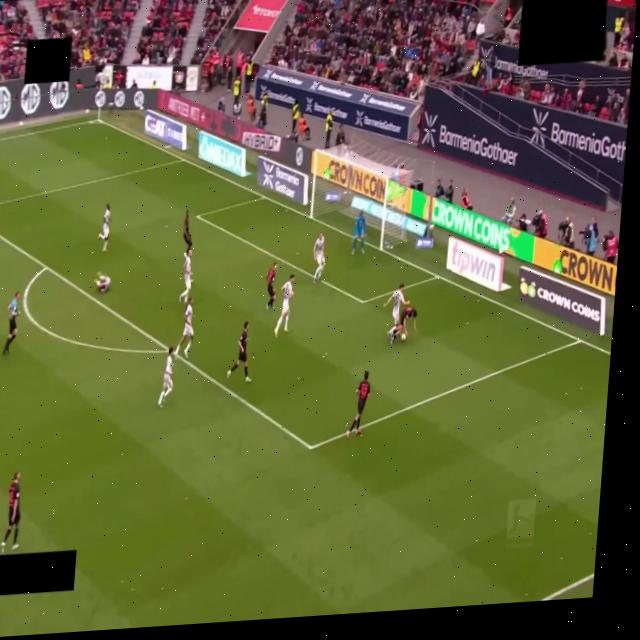ball: (401, 333, 406, 340)
player: (1, 471, 20, 552), (347, 372, 370, 438), (227, 321, 250, 382), (275, 275, 294, 336), (384, 284, 409, 329), (175, 298, 193, 359), (158, 347, 174, 407), (391, 307, 417, 343), (179, 250, 192, 303), (352, 211, 366, 254), (313, 233, 325, 282), (98, 204, 110, 252), (267, 262, 277, 309), (183, 210, 192, 251), (95, 272, 111, 293)
referee: (3, 292, 21, 356)
